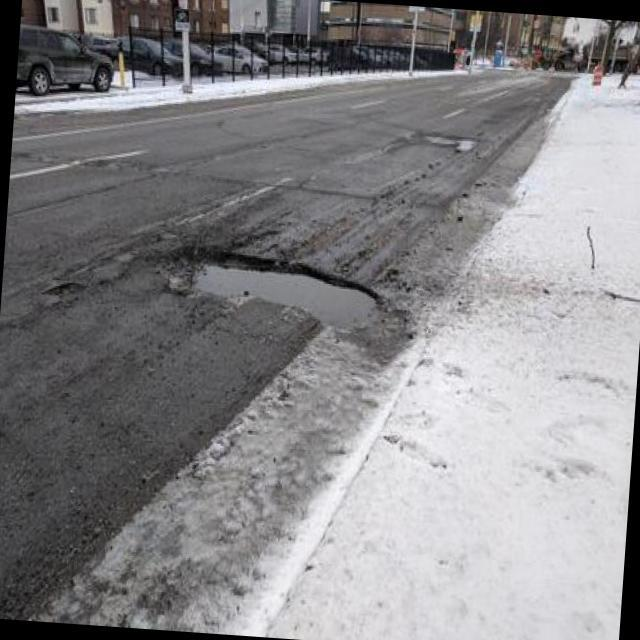Pothole: (197, 264, 375, 325)
